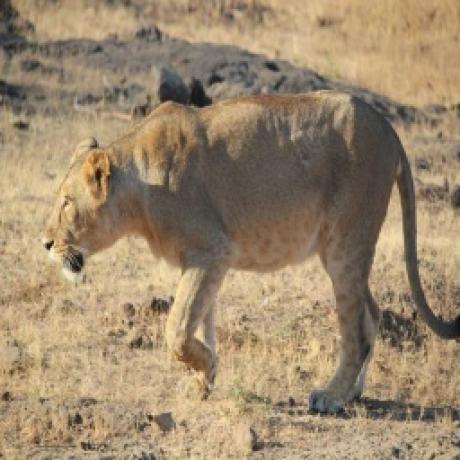Lion: (37, 82, 460, 420)
